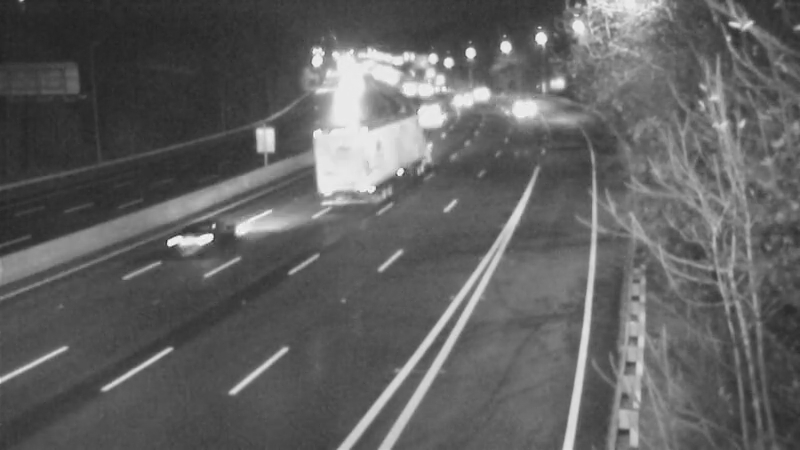vehicle: (308, 117, 388, 197), (151, 204, 231, 284), (455, 65, 505, 115), (437, 75, 487, 125), (502, 87, 552, 137), (408, 83, 458, 133)
